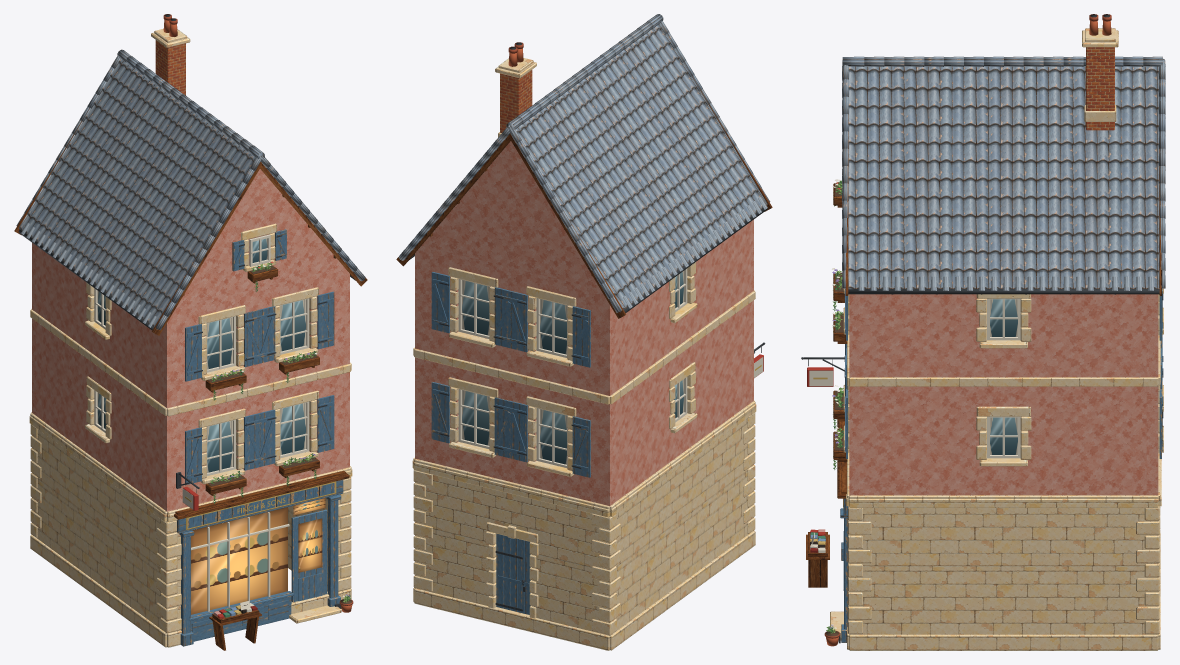
The picture shows the model from 3 angles, left to right: view 1: azimuth 30°, elevation 25°; view 2: azimuth 150°, elevation 25°; view 3: azimuth 270°, elevation 25°; orthographic projection. The views are drawn at different scales.
Visible parts, largest first — view 1: seaside_plaster, seaside_roof, seaside_stone, seaside_shutter, shop_glass, house_paint, house_window_pane, seaside_timber, detail_window_boxes, seaside_ridge, detail_wares, house_brick; view 2: seaside_stone, seaside_plaster, seaside_roof, seaside_shutter, house_window_pane, house_paint, seaside_timber, seaside_ridge, house_brick; view 3: seaside_roof, seaside_stone, seaside_plaster, house_paint, seaside_ridge, house_brick, house_window_pane, detail_window_boxes, seaside_shutter, detail_wares, seaside_timber.
Boxes of the visible parts, x1,y1,x2,y2 form: seaside_plaster: [32, 169, 349, 511]; seaside_roof: [16, 56, 365, 330]; seaside_stone: [29, 29, 352, 647]; seaside_shutter: [176, 229, 343, 646]; shop_glass: [191, 498, 325, 614]; house_paint: [18, 14, 355, 611]; house_window_pane: [97, 234, 306, 472]; seaside_timber: [14, 95, 367, 519]; detail_window_boxes: [205, 261, 319, 503]; seaside_ridge: [117, 49, 264, 160]; detail_wares: [209, 601, 261, 650]; house_brick: [155, 40, 185, 95]; seaside_stone: [412, 58, 756, 650]; seaside_plaster: [415, 141, 753, 506]; seaside_roof: [398, 21, 770, 312]; seaside_shutter: [431, 272, 590, 614]; house_window_pane: [462, 271, 683, 464]; house_paint: [408, 42, 767, 611]; seaside_timber: [396, 63, 772, 318]; seaside_ridge: [506, 14, 663, 129]; house_brick: [500, 70, 532, 132]; seaside_roof: [842, 59, 1165, 290]; seaside_stone: [830, 28, 1163, 650]; seaside_plaster: [849, 294, 1158, 495]; house_paint: [801, 14, 1163, 643]; seaside_ridge: [842, 56, 1162, 66]; house_brick: [1086, 47, 1114, 130]; house_window_pane: [990, 299, 1017, 454]; detail_window_boxes: [832, 179, 847, 469]; seaside_shutter: [840, 289, 1162, 642]; detail_wares: [806, 529, 829, 587]; seaside_timber: [837, 114, 1162, 498].
Size of the model in its own units: 5.88 by 13.62 by 7.55.
Materials: 10 (10 with a texture image).
